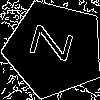Z: (29, 24, 83, 65)
